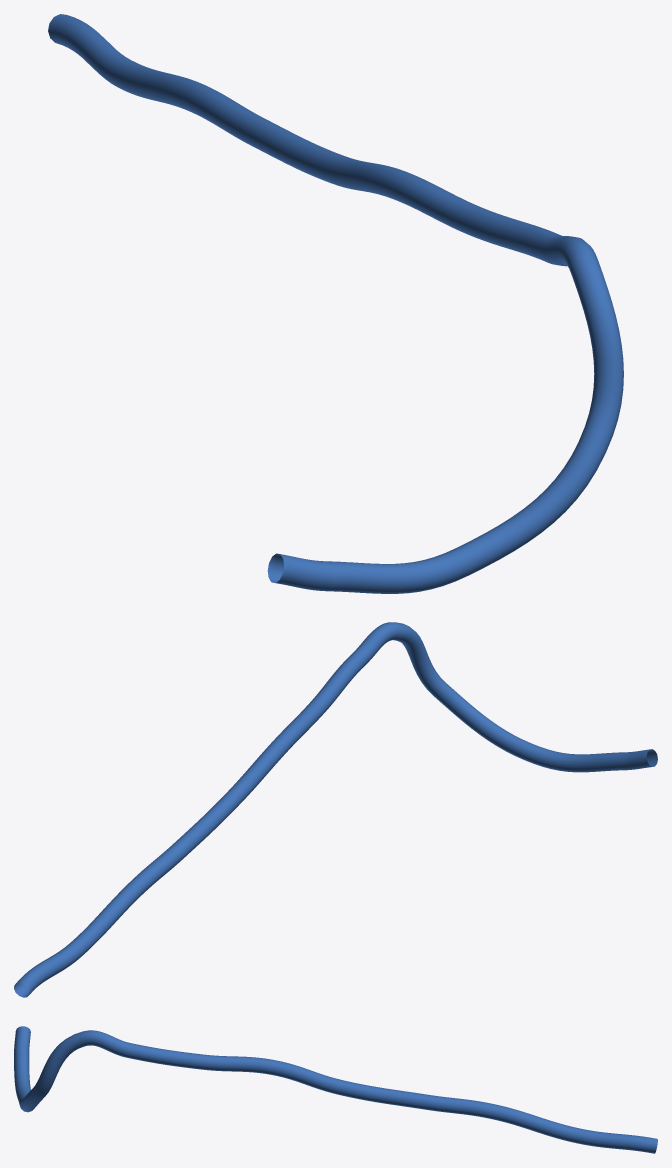
3 views of the same model, one above another, from view 1: azimuth 30°, elevation 25°; view 2: azimuth 150°, elevation 25°; view 3: azimuth 270°, elevation 25° (orthographic). The views are drawn at different scales.
Visible parts, largest first — view 1: 半奇静脉; view 2: 半奇静脉; view 3: 半奇静脉.
Part boxes in pixels (x1,y1,x2,y2): 半奇静脉: (48,14,623,593); 半奇静脉: (14,622,657,997); 半奇静脉: (14,1026,657,1153).
Bounding box in the file's own units: 0.0586 × 0.0309 × 0.15.
